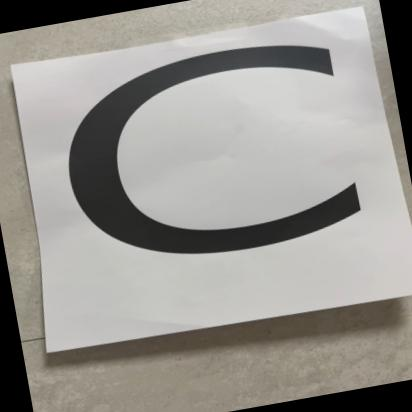seat: (1, 0, 412, 357)
